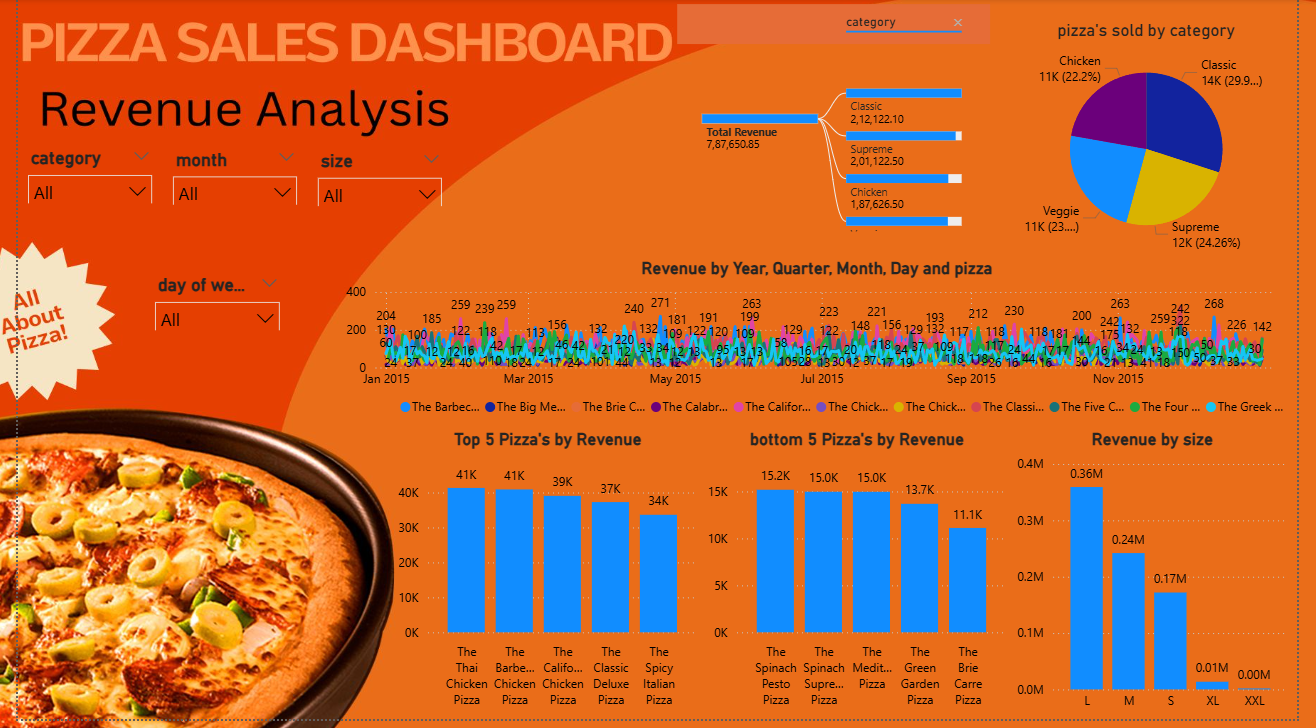

The page's visual inventory and layout, read from the dashboard file:
{"tool":"powerbi","page":{"name":"Page 3","canvas":[1280,720],"ordinal":2},"visuals":[{"type":"slicer","fields":{"Values":["pizza_types.category"]},"box":[0,144.1,144.1,61.2],"z":0},{"type":"slicer","fields":{"Values":["orders.month"]},"box":[145.5,145.5,144.1,61.2],"z":1},{"type":"slicer","fields":{"Values":["pizzas.size"]},"box":[289.6,146.8,144.1,61.2],"z":2},{"type":"slicer","fields":{"Values":["orders.day of week"]},"box":[127,270.6,144.9,60.7],"z":3},{"type":"columnChart","title":"Top 5 Pizza''s by Revenue","fields":{"Y":["pizzas.Total Revenue"],"Category":["pizza_types.name"]},"box":[375.5,430.7,309.2,285.7],"z":4},{"type":"columnChart","title":"bottom 5 Pizza''s by Revenue","fields":{"Y":["pizzas.Total Revenue"],"Category":["pizza_types.name"]},"box":[684.7,430.7,309.2,285.7],"z":5},{"type":"columnChart","title":"Revenue by size","fields":{"Y":["pizzas.Total Revenue"],"Category":["pizzas.size"]},"box":[993.9,430.1,281.6,289.9],"z":6},{"type":"lineChart","title":"Revenue by Year, Quarter, Month, Day and pizza","fields":{"Y":["pizzas.Total Revenue"],"Category":["orders.date.Variation.Date Hierarchy.Year","orders.date.Variation.Date Hierarchy.Quarter","orders.date.Variation.Date Hierarchy.Month","orders.date.Variation.Date Hierarchy.Day"],"Series":["pizza_types.name"]},"box":[323,259.5,952.5,167],"z":7},{"type":"pieChart","title":"pizza''s sold by category","fields":{"Category":["pizza_types.category"],"Y":["orders.total_pizzas_sold"]},"box":[977.3,20.7,302.3,238.8],"z":8},{"type":"decompositionTreeVisual","fields":{"Analyze":["pizzas.Total Revenue"],"ExplainBy":["pizza_types.category"]},"box":[654.3,0,323,237.4],"z":9}]}

Visuals, with their boxes in screenshot pixels (x1, y1, x2, y2), scaled from the page's 1280x720 canvas onto the 1316x728 screenshot:
slicer - pizza_types.category: BBox(0, 146, 148, 208)
slicer - orders.month: BBox(150, 147, 298, 209)
slicer - pizzas.size: BBox(298, 148, 446, 210)
slicer - orders.day of week: BBox(131, 274, 280, 335)
"Top 5 Pizza''s by Revenue" columnChart: BBox(386, 435, 704, 724)
"bottom 5 Pizza''s by Revenue" columnChart: BBox(704, 435, 1022, 724)
"Revenue by size" columnChart: BBox(1022, 435, 1311, 727)
"Revenue by Year, Quarter, Month, Day and pizza" lineChart: BBox(332, 262, 1311, 431)
"pizza''s sold by category" pieChart: BBox(1005, 21, 1315, 262)
decompositionTreeVisual - pizzas.Total Revenue x pizza_types.category: BBox(673, 0, 1005, 240)
